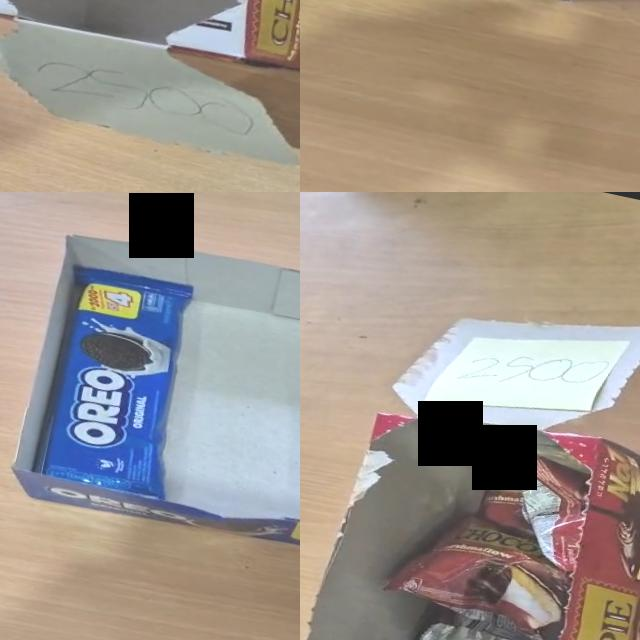Chocopie: (385, 518, 566, 635), (513, 445, 586, 571), (478, 460, 529, 534)
Oreo: (28, 258, 208, 502)
